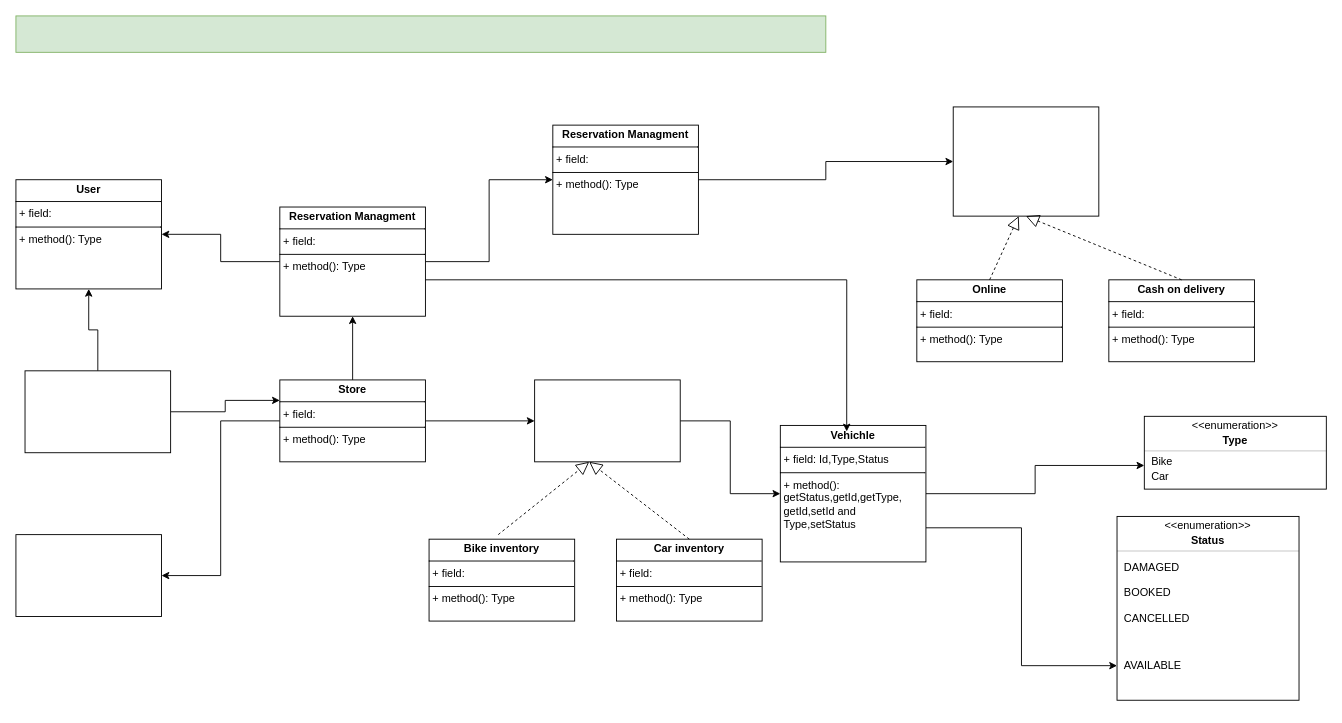
The diagram is 1342 pixels wide and 723 high, and some of its shapes have lost their labels. Each missing label, with the centre of its shape:
"Location + field: + method(): Type" belongs at point (88, 575).
"Payment + field: + method(): Type" belongs at point (1025, 161).
"RENTAL CAR SYSTEM" belongs at point (420, 33).
"Vehichle inventory + field: + method(): Type" belongs at point (607, 420).
"Vehicle Rendring System + field: + method(): Type" belongs at point (97, 411).
